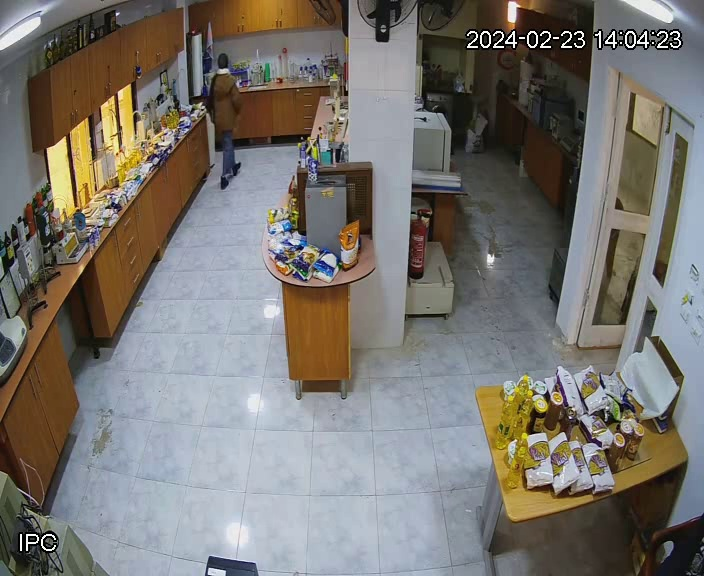Shoplifting: (207, 54, 243, 189)
